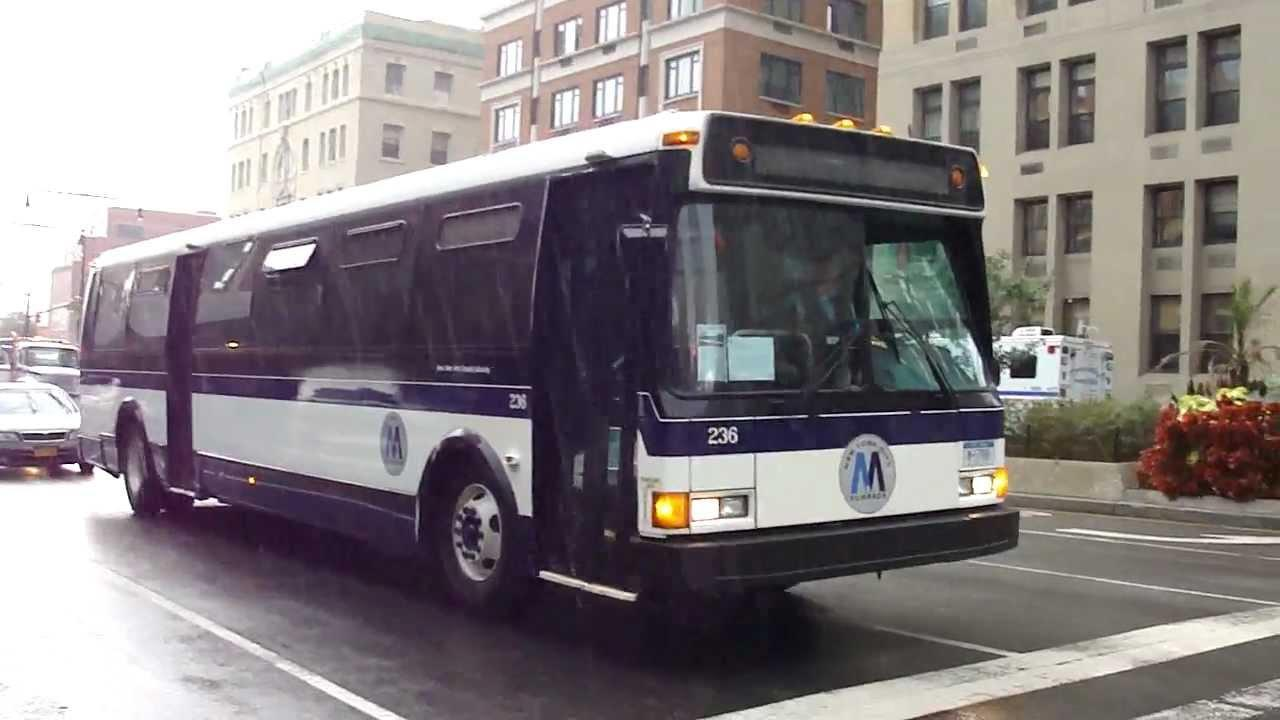Bus: (73, 112, 1022, 657)
